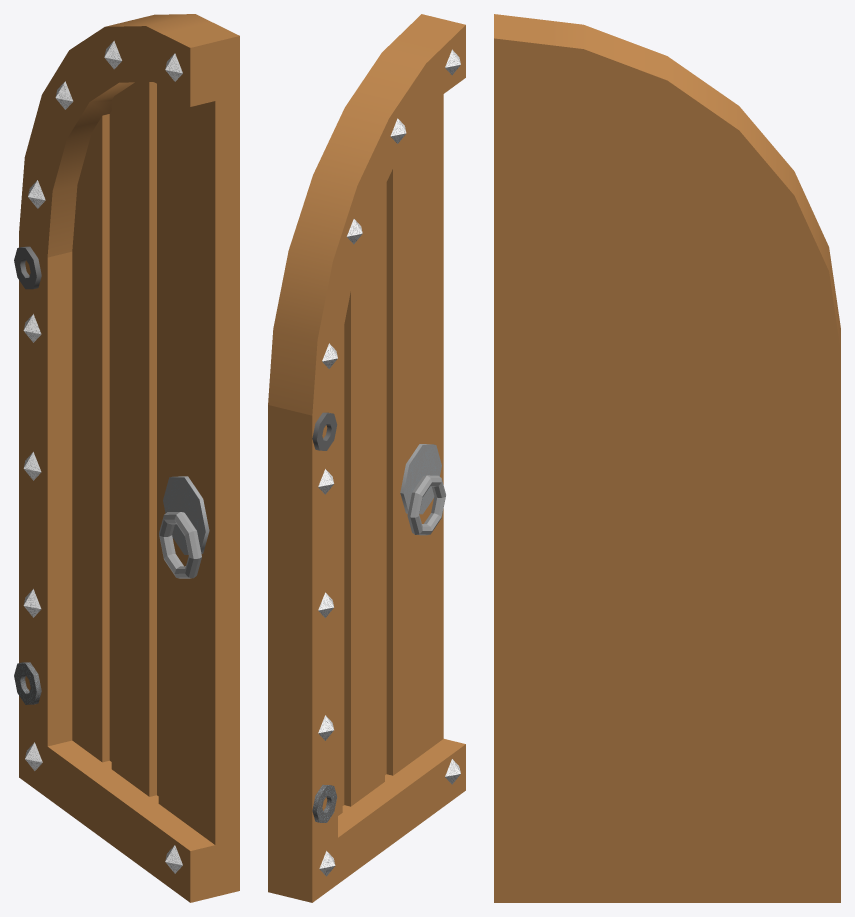
Rendered from Door3.fbx.
3 renders of one model, left to right at view 1: azimuth 30°, elevation 25°; view 2: azimuth 150°, elevation 25°; view 3: azimuth 270°, elevation 25°, orthographic. The views are drawn at different scales.
Visible parts, largest first — view 1: Door3_1, handleMain1, Handle1, Petlja1, Petlja2; view 2: Door3_1, handleMain1, Handle1, Petlja1, Petlja2; view 3: Door3_1.
Part boxes in pixels (x1,y1,x2,y2): Door3_1: [19, 14, 239, 902]; handleMain1: [163, 476, 209, 554]; Handle1: [159, 512, 201, 578]; Petlja1: [14, 246, 41, 289]; Petlja2: [14, 662, 41, 704]; Door3_1: [268, 14, 465, 902]; handleMain1: [400, 444, 441, 514]; Handle1: [407, 475, 445, 535]; Petlja1: [312, 412, 337, 450]; Petlja2: [312, 784, 337, 822]; Door3_1: [494, 14, 840, 902].
Size of the model in its own units: 120 by 1650 by 600.
